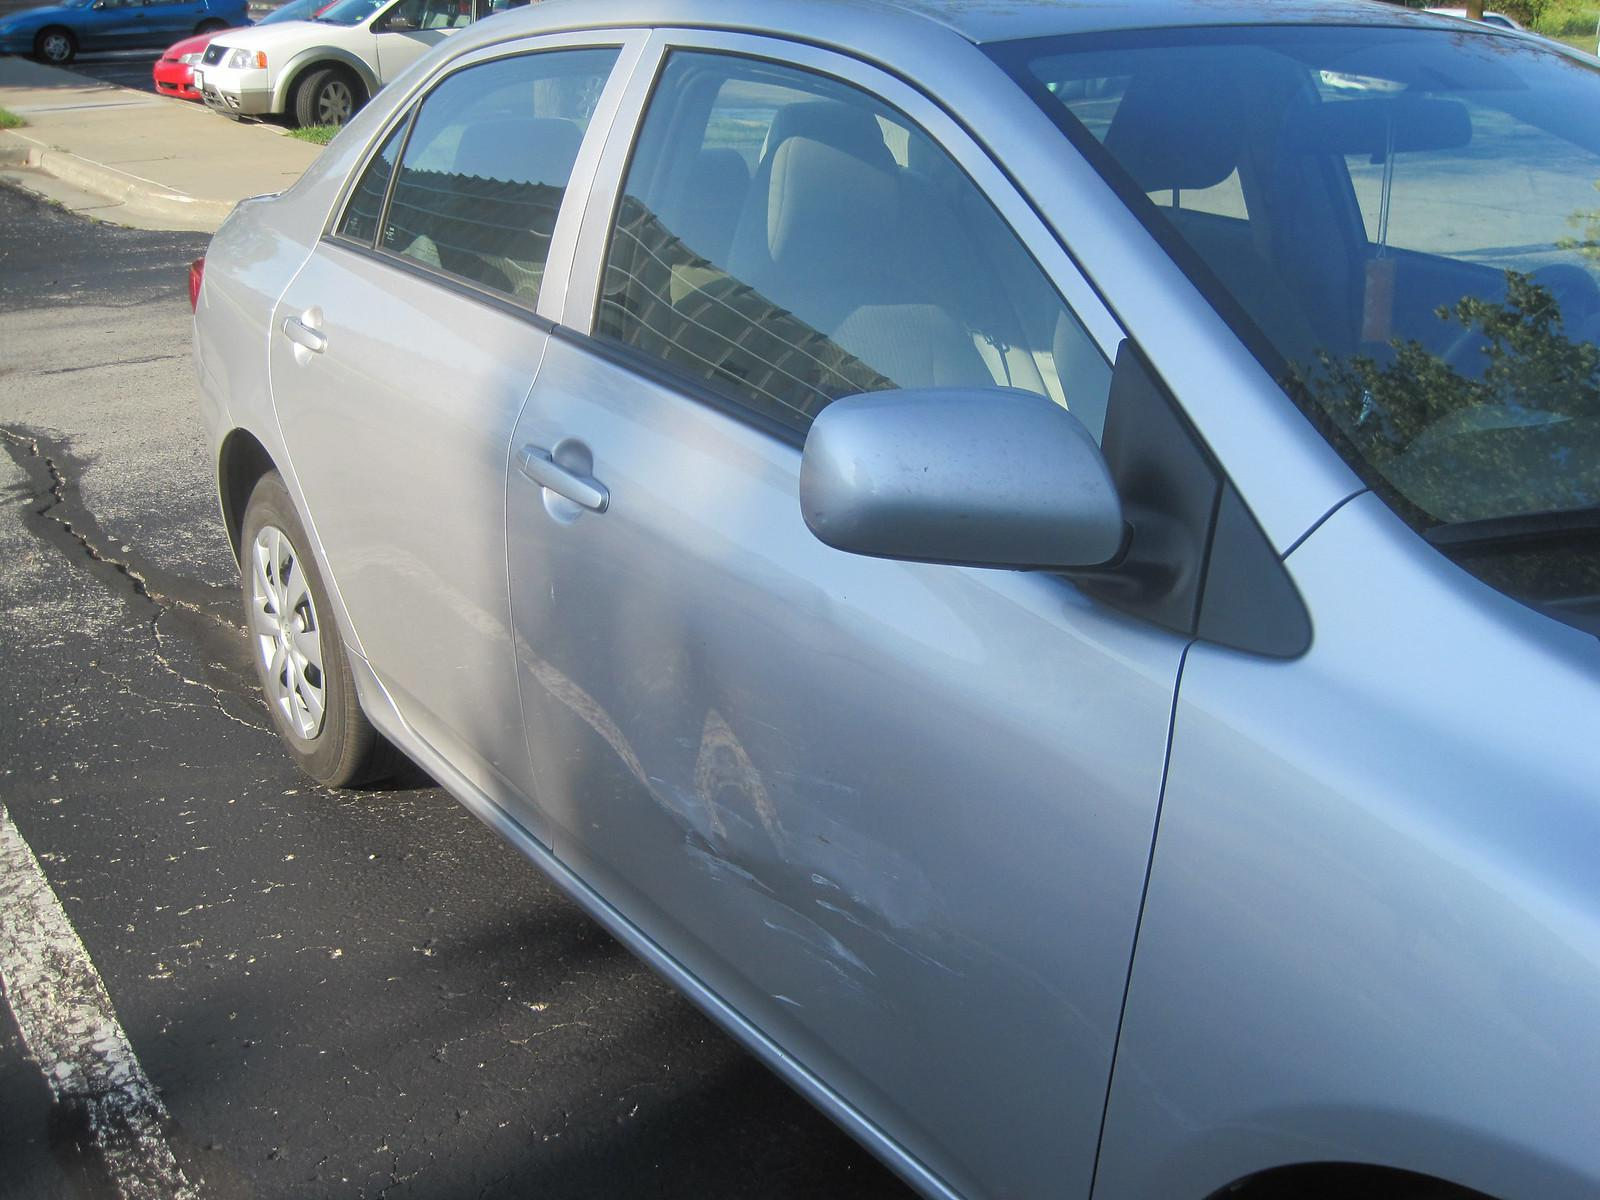doorouter-dent: (538, 549, 1169, 1079)
